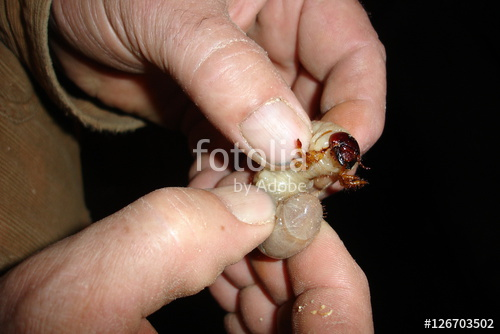finger: (308, 9, 380, 136), (295, 223, 373, 329), (246, 246, 291, 328)
